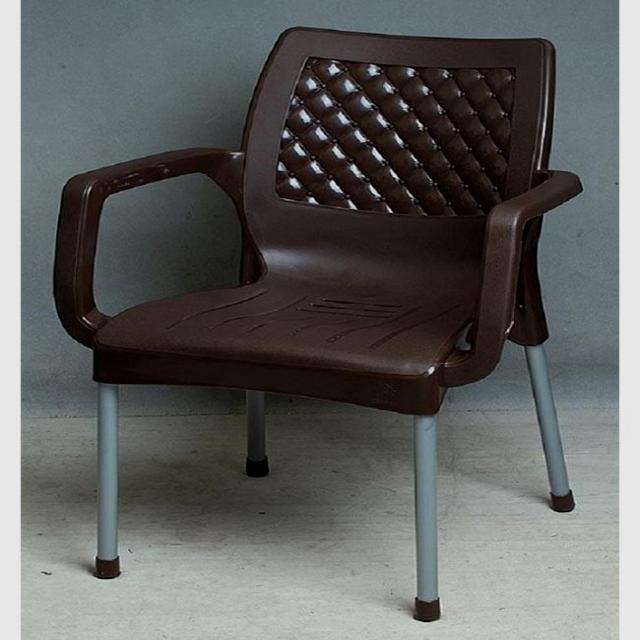Chair: (50, 23, 587, 626)
